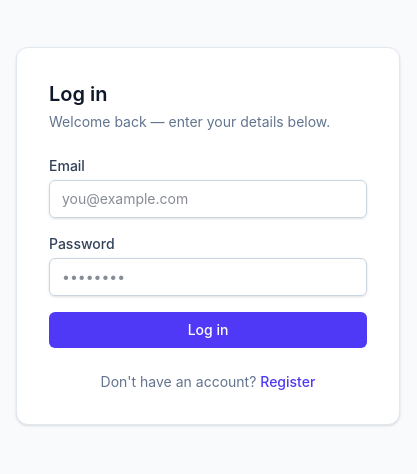
Test: LoginPage › displays the API error message on failed login
Type "user@example.com" into the field labelled "Email" at (208, 199), box 49,180 -> 367,218
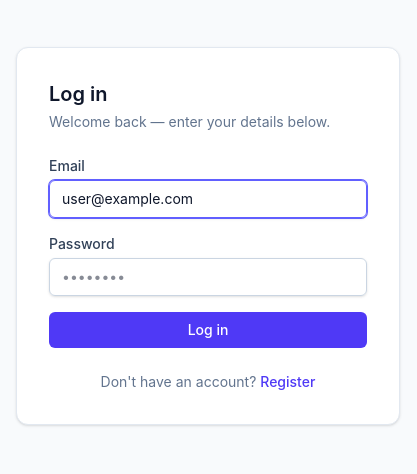
Type "wrong-password" into the password field labelled "Password" at (208, 277), box 49,258 -> 367,296
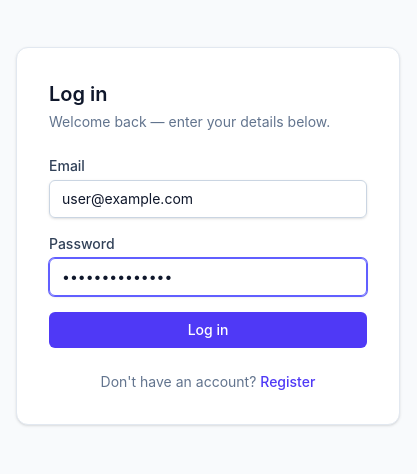
Click the button "Log in" at (208, 330), box 49,312 -> 367,348
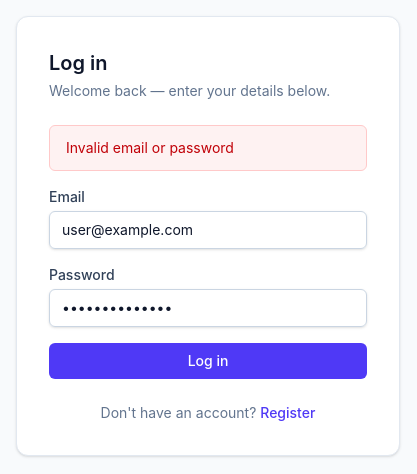
Check: the text "Invalid email or password" is shown, box 49,125 -> 367,171
